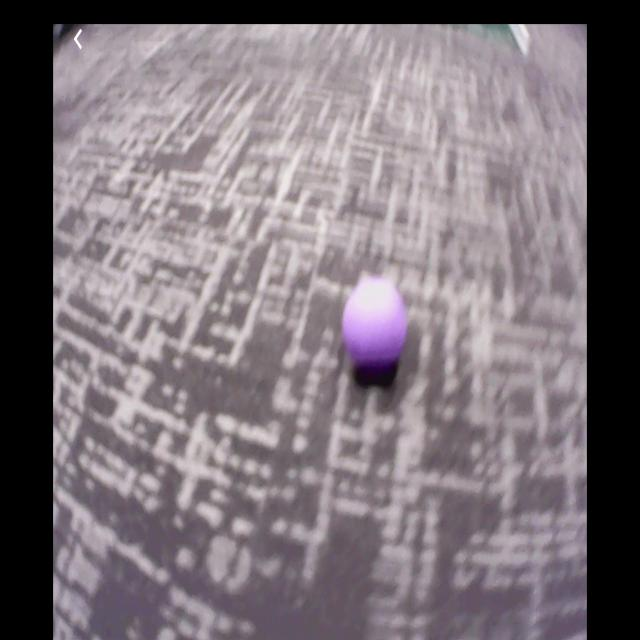ball: (343, 280, 410, 370)
